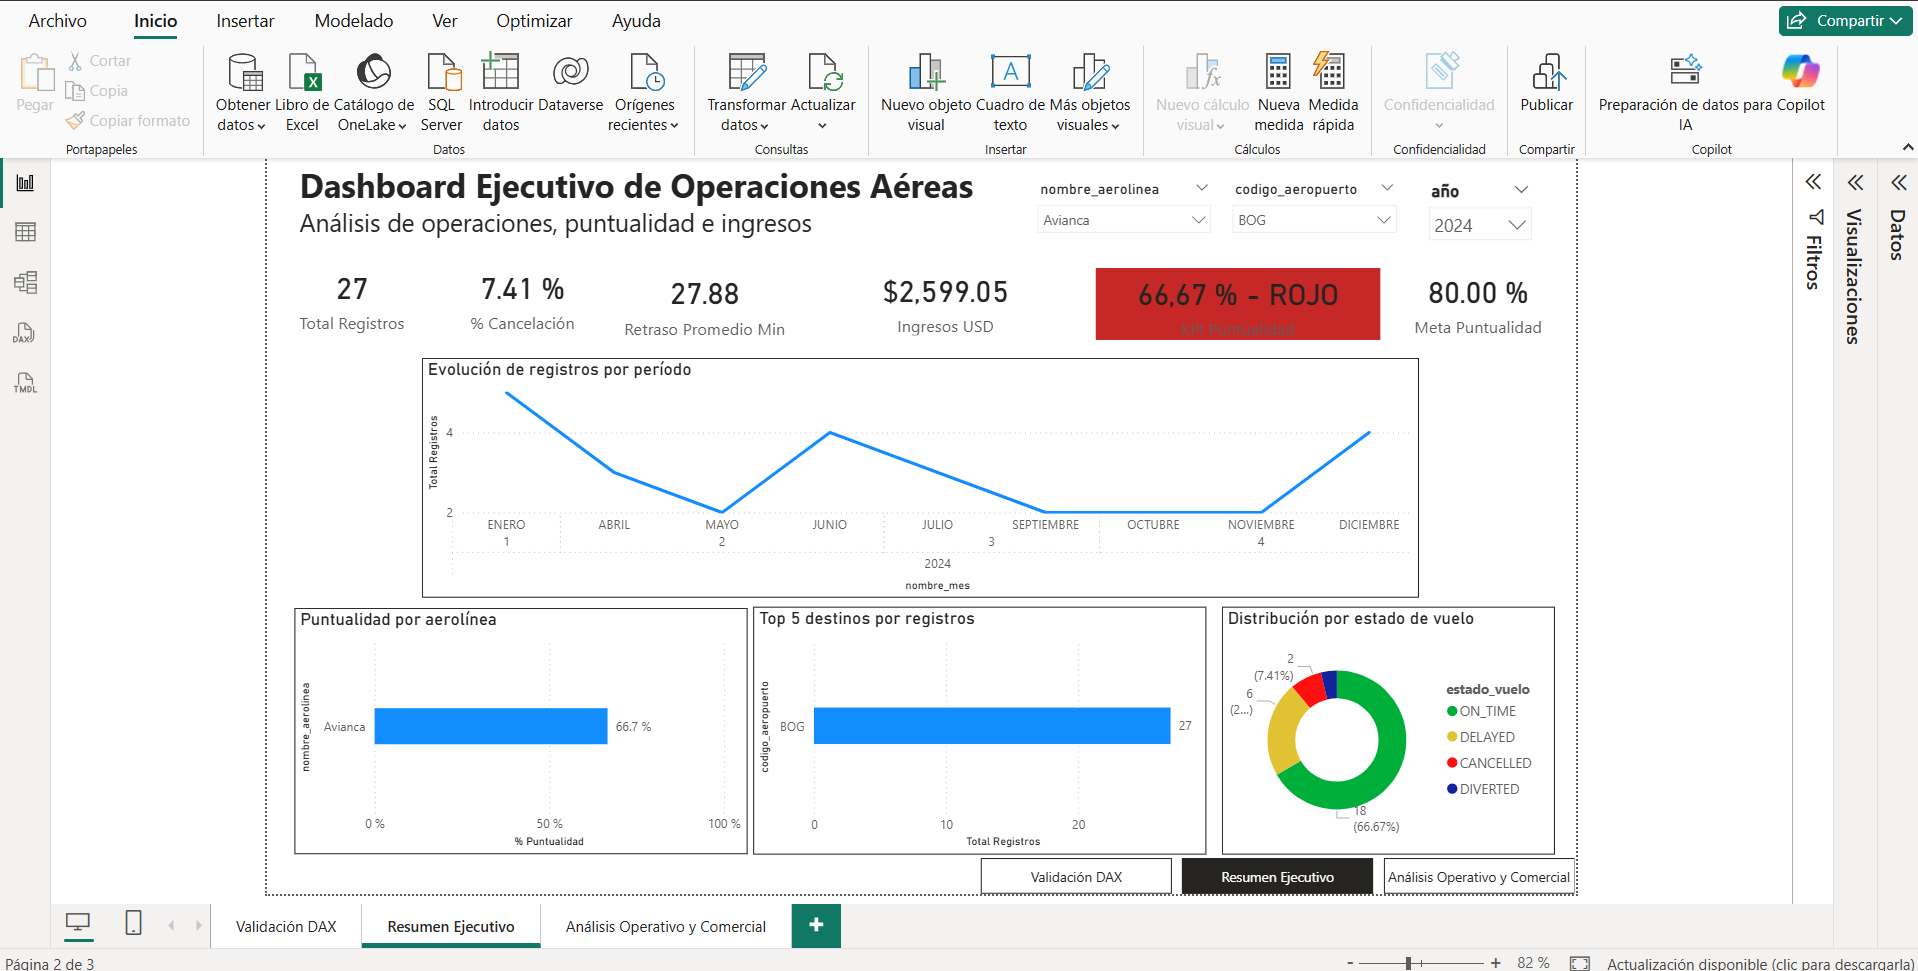

The page's visual inventory and layout, read from the dashboard file:
{"tool":"powerbi","page":{"name":"Resumen Ejecutivo","canvas":[1280,720],"ordinal":1},"visuals":[{"type":"textbox","box":[26.7,0,671.6,95.9],"z":0},{"type":"card","fields":{"Values":["00 Medidas.Total Registros"]},"box":[21.6,98.3,122.7,78.6],"z":1000},{"type":"card","fields":{"Values":["00 Medidas.Ingresos USD"]},"box":[556.4,101.5,215.5,77.1],"z":2000},{"type":"card","fields":{"Values":["00 Medidas.% Cancelación"]},"box":[169.5,98.3,160.4,78.6],"z":3000},{"type":"card","fields":{"Values":["00 Medidas.Retraso Promedio Min"]},"box":[329.9,104.6,196.6,73.9],"z":4000},{"type":"card","fields":{"Values":["00 Medidas.KPI Puntualidad"]},"box":[811.2,107.8,278.4,70.8],"z":5000},{"type":"card","fields":{"Values":["00 Medidas.Meta Puntualidad"]},"box":[1110.1,101.5,149.4,78.6],"z":6000},{"type":"lineChart","title":"Evolución de registros por período","fields":{"Category":["dw DimFechaSalida.Jerarquía Fecha Salida.anio","dw DimFechaSalida.Jerarquía Fecha Salida.trimestre","dw DimFechaSalida.Jerarquía Fecha Salida.nombre_mes"],"Y":["00 Medidas.Total Registros"]},"box":[152.2,195.3,975.2,234.4],"z":7000},{"type":"slicer","fields":{"Values":["dw DimFechaSalida.anio"]},"box":[1126.2,17.3,121.1,73.9],"z":8000},{"type":"barChart","title":"Puntualidad por aerolínea","fields":{"Category":["dw DimAerolinea.nombre_aerolinea"],"Y":["00 Medidas.% Puntualidad"]},"box":[26.3,440.7,443.6,240.6],"z":9000},{"type":"barChart","title":"Top 5 destinos por registros","fields":{"Category":["dw DimAeropuertoDestino.codigo_aeropuerto"],"Y":["00 Medidas.Total Registros"]},"box":[476.2,439.1,443.6,242.2],"z":10000},{"type":"donutChart","title":"Distribución por estado de vuelo","fields":{"Category":["dw DimEstadoVuelo.estado_vuelo"],"Y":["00 Medidas.Total Registros"]},"box":[933.9,439.1,325.6,242.2],"z":11000},{"type":"slicer","fields":{"Values":["dw DimAerolinea.nombre_aerolinea"]},"box":[744,17.3,190.3,78.6],"z":12000},{"type":"slicer","fields":{"Values":["dw DimAeropuertoDestino.codigo_aeropuerto"]},"box":[934.3,17.3,180.9,73.9],"z":13000},{"type":"pageNavigator","box":[698.8,684.9,581.2,35.1],"z":13001}]}

Visuals, with their boxes on the page's 1280x720 design canvas (x1, y1, x2, y2). These are canvas units, not pixel positions in the 1918x971 screenshot, which may show the page scaled, cropped or inside an application window:
textbox: detection(27, 0, 698, 96)
card - 00 Medidas.Total Registros: detection(22, 98, 144, 177)
card - 00 Medidas.Ingresos USD: detection(556, 102, 772, 179)
card - 00 Medidas.% Cancelación: detection(170, 98, 330, 177)
card - 00 Medidas.Retraso Promedio Min: detection(330, 105, 526, 178)
card - 00 Medidas.KPI Puntualidad: detection(811, 108, 1090, 179)
card - 00 Medidas.Meta Puntualidad: detection(1110, 102, 1260, 180)
"Evolución de registros por período" lineChart: detection(152, 195, 1127, 430)
slicer - dw DimFechaSalida.anio: detection(1126, 17, 1247, 91)
"Puntualidad por aerolínea" barChart: detection(26, 441, 470, 681)
"Top 5 destinos por registros" barChart: detection(476, 439, 920, 681)
"Distribución por estado de vuelo" donutChart: detection(934, 439, 1260, 681)
slicer - dw DimAerolinea.nombre_aerolinea: detection(744, 17, 934, 96)
slicer - dw DimAeropuertoDestino.codigo_aeropuerto: detection(934, 17, 1115, 91)
pageNavigator: detection(699, 685, 1280, 720)
